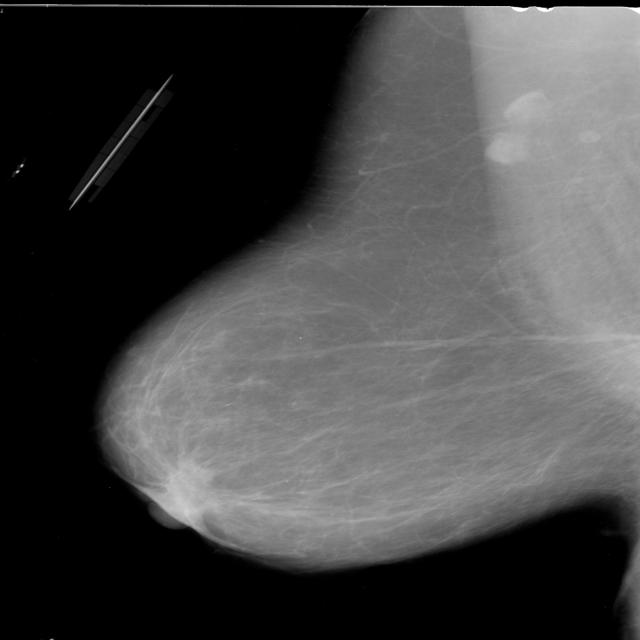cancer: (136, 448, 274, 562)
